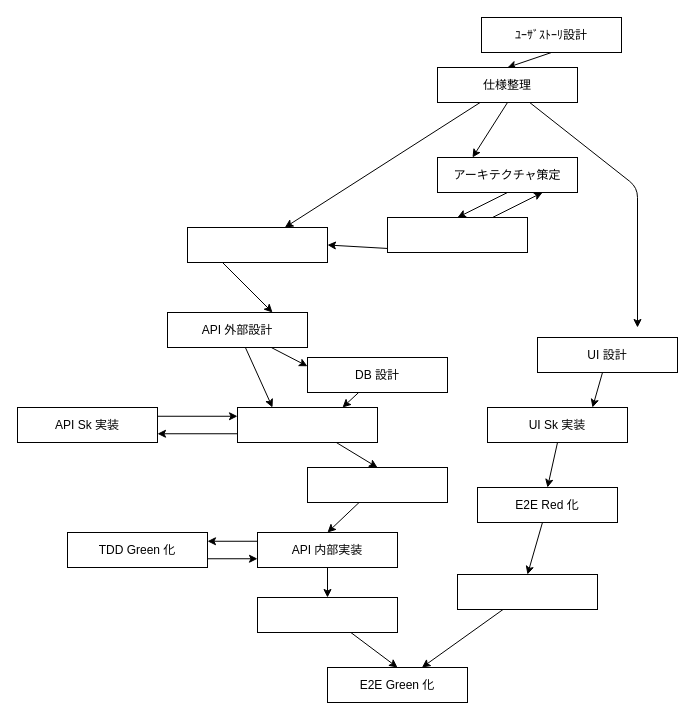
This 695x720 diagram has some shape labels left out. The shapes that lost their labels are listed below. From the top down, each one's centre as x and y in pixels, then its label:
point 257,244: ドメイン設計
point 457,234: 技術選定
point 307,424: BDD Red 化
point 377,484: TDD Red 化
point 527,592: UI 内部実装
point 327,614: BDD Green 化
